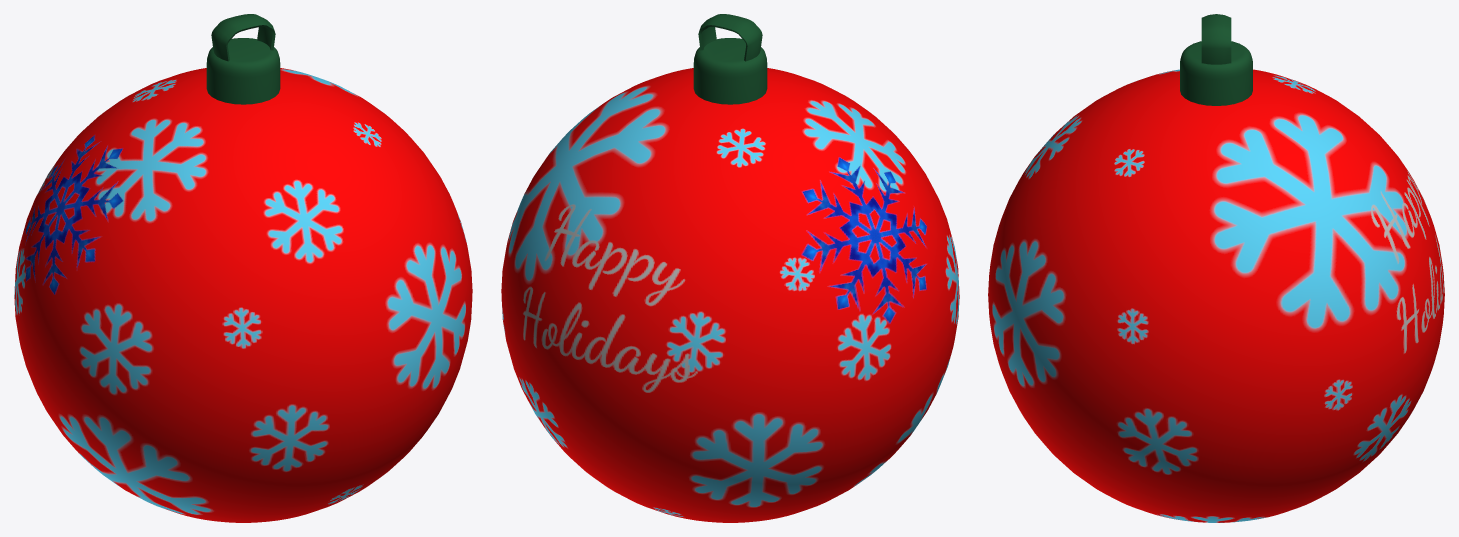
3 renders of one model, left to right at view 1: azimuth 30°, elevation 25°; view 2: azimuth 150°, elevation 25°; view 3: azimuth 270°, elevation 25°, orthographic.
Visible parts, largest first — view 1: Ornament; view 2: Ornament; view 3: Ornament.
Boxes of the visible parts, x1,y1,x2,y2 form: Ornament: [14, 14, 472, 522]; Ornament: [501, 14, 959, 522]; Ornament: [988, 14, 1444, 522].
Size of the model in its own units: 10 by 10 by 11.64.
Materials: 1 (1 with a texture image).
